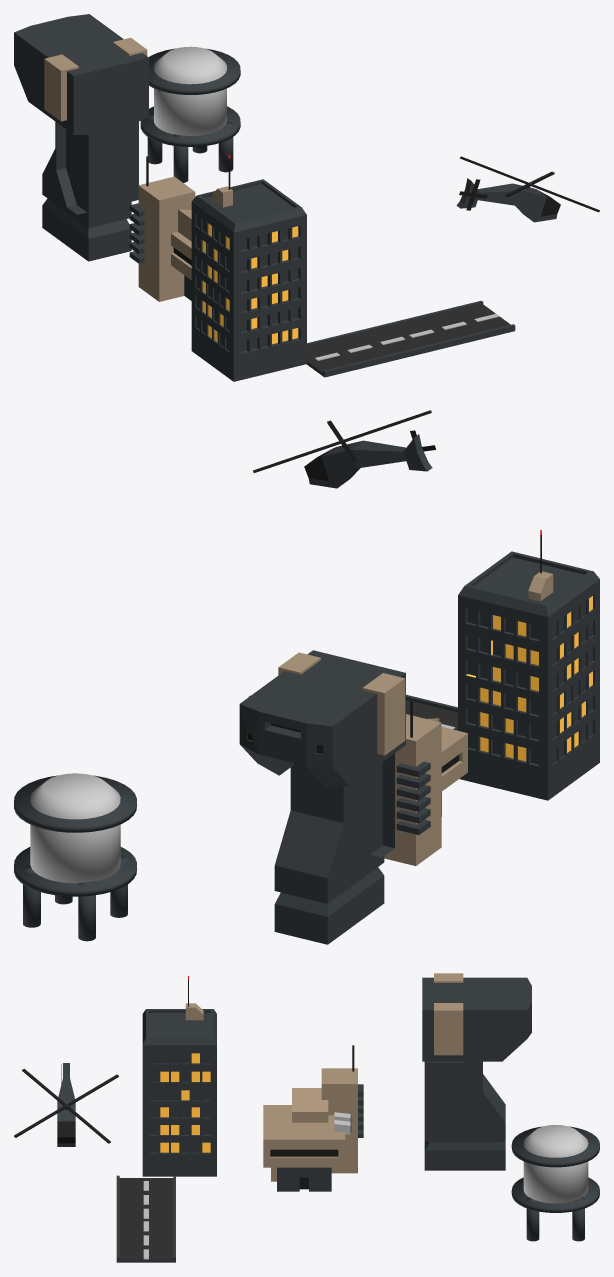
The model's file is Buildings_mini.fbx.
3 views of the same model, one above another, from view 1: azimuth 30°, elevation 25°; view 2: azimuth 150°, elevation 25°; view 3: azimuth 270°, elevation 25° (orthographic). The views are drawn at different scales.
Parts seen in each view (by area): view 1: Cube.006, Cube.003, Cylinder.010, Cube.007, Cube.001, Cube.012, Cube.016; view 2: Cube.006, Cube.003, Cylinder.010, Cube.001, Cube.012, Cube.007, Cube.016; view 3: Cube.006, Cube.003, Cube.001, Cylinder.010, Cube.007, Cube.012, Cube.016.
Part boxes in pixels (bbox=[...]): Cube.006: bbox=[14, 14, 148, 261]; Cube.003: bbox=[191, 154, 306, 381]; Cylinder.010: bbox=[140, 46, 240, 182]; Cube.007: bbox=[306, 300, 515, 377]; Cube.001: bbox=[129, 156, 195, 301]; Cube.012: bbox=[456, 178, 560, 222]; Cube.016: bbox=[460, 156, 599, 212]; Cube.006: bbox=[239, 650, 405, 944]; Cube.003: bbox=[458, 530, 599, 800]; Cylinder.010: bbox=[14, 773, 136, 941]; Cube.001: bbox=[384, 700, 467, 865]; Cube.012: bbox=[304, 434, 432, 488]; Cube.007: bbox=[249, 694, 457, 730]; Cube.016: bbox=[253, 410, 431, 472]; Cube.006: bbox=[422, 973, 531, 1170]; Cube.003: bbox=[142, 976, 216, 1176]; Cube.001: bbox=[263, 1045, 363, 1191]; Cylinder.010: bbox=[511, 1125, 599, 1241]; Cube.007: bbox=[116, 1175, 175, 1262]; Cube.012: bbox=[57, 1063, 75, 1146]; Cube.016: bbox=[14, 1068, 118, 1143].
Size of the model in its own units: 27.5 by 17.52 by 51.37.
